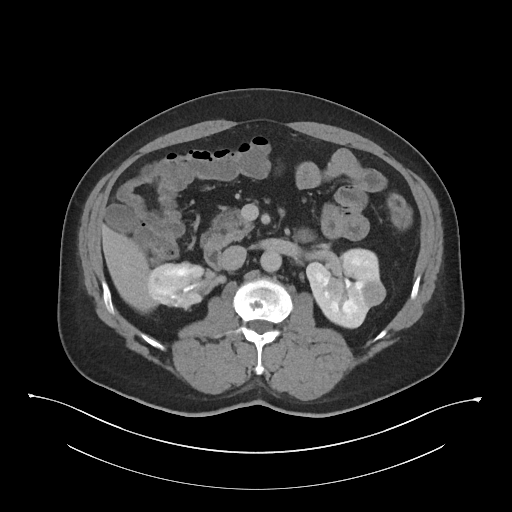Lesion: (359, 276, 390, 310)
